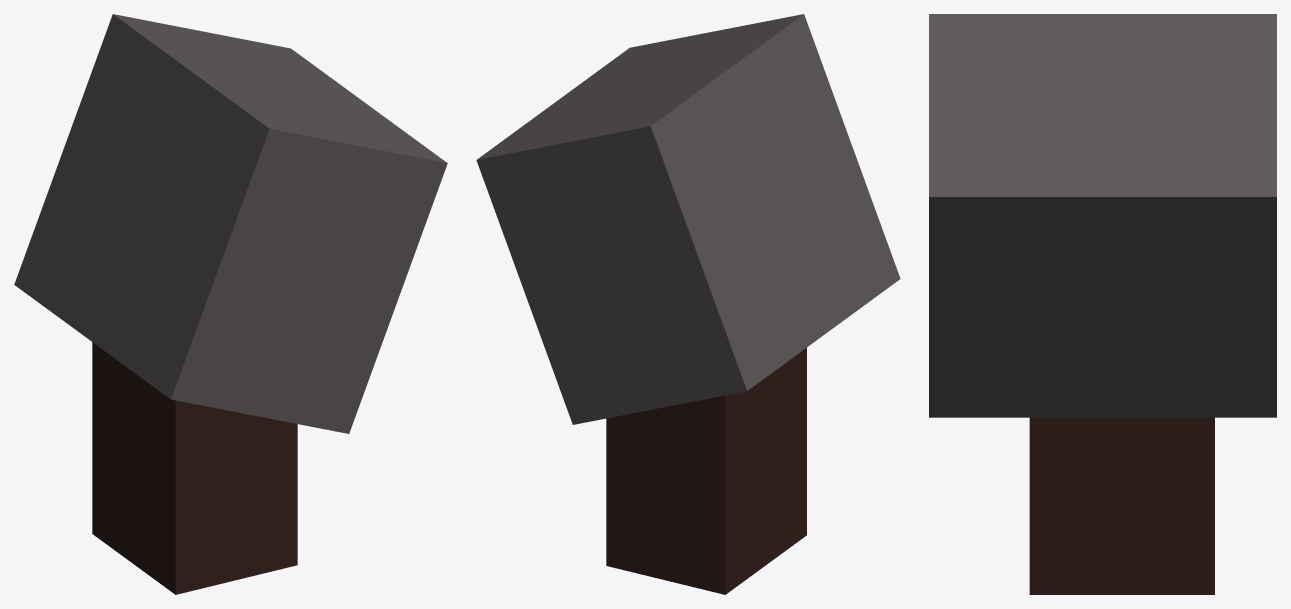
The model's file is BossMechUpperArmRight.gltf.
3 renders of one model, left to right at view 1: azimuth 30°, elevation 25°; view 2: azimuth 150°, elevation 25°; view 3: azimuth 270°, elevation 25°, orthographic. The views are drawn at different scales.
Parts seen in each view (by area): view 1: 立方体.007, 立方体.008; view 2: 立方体.007, 立方体.008; view 3: 立方体.007, 立方体.008.
Part boxes in pixels (box(x1,y1,x2,y2)): 立方体.007: box(14, 14, 447, 433); 立方体.008: box(92, 342, 297, 594); 立方体.007: box(476, 14, 900, 424); 立方体.008: box(606, 348, 806, 594); 立方体.007: box(929, 14, 1276, 417); 立方体.008: box(1029, 417, 1214, 594).
Bounding box in the file's own units: 0.9525 × 1.6 × 0.9343.
